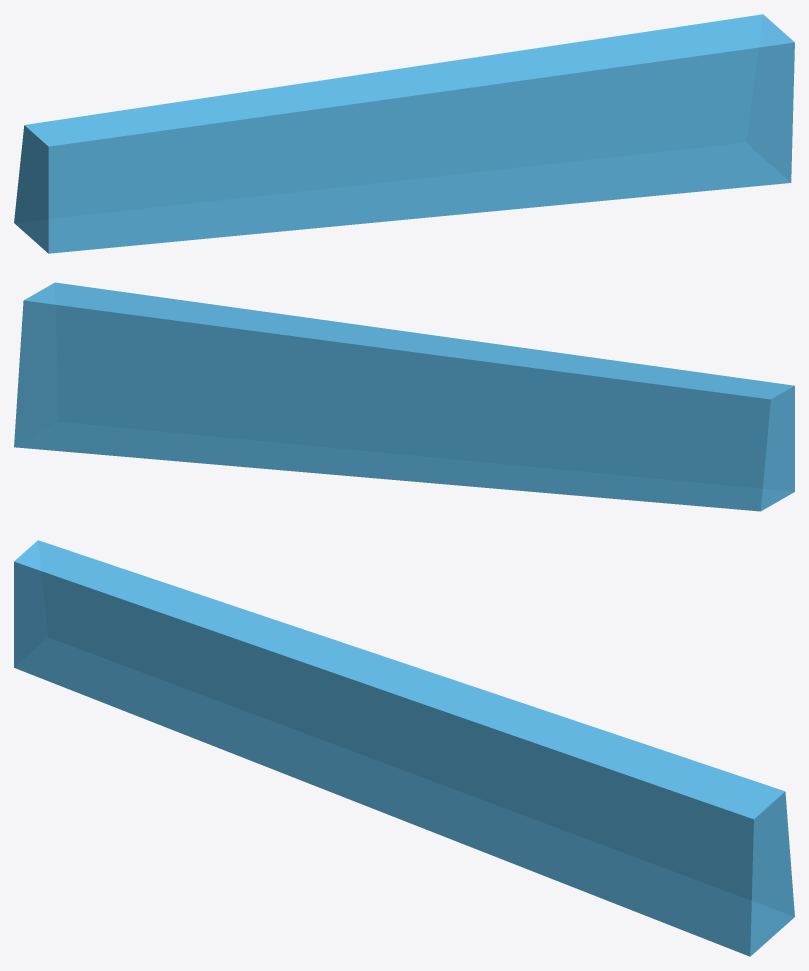
Rendered from Event_421115418_HErechit_114.fbx.
3 renders of one model, top to bottom at view 1: azimuth 30°, elevation 25°; view 2: azimuth 150°, elevation 25°; view 3: azimuth 330°, elevation 25°, orthographic.
Parts seen in each view (by area): view 1: Model; view 2: Model; view 3: Model.
Part boxes in pixels (bbox=[...]): Model: bbox=[14, 14, 794, 253]; Model: bbox=[14, 282, 794, 511]; Model: bbox=[14, 540, 794, 956].
Bounding box in the file's own units: 3.41 × 0.9659 × 0.3568.
